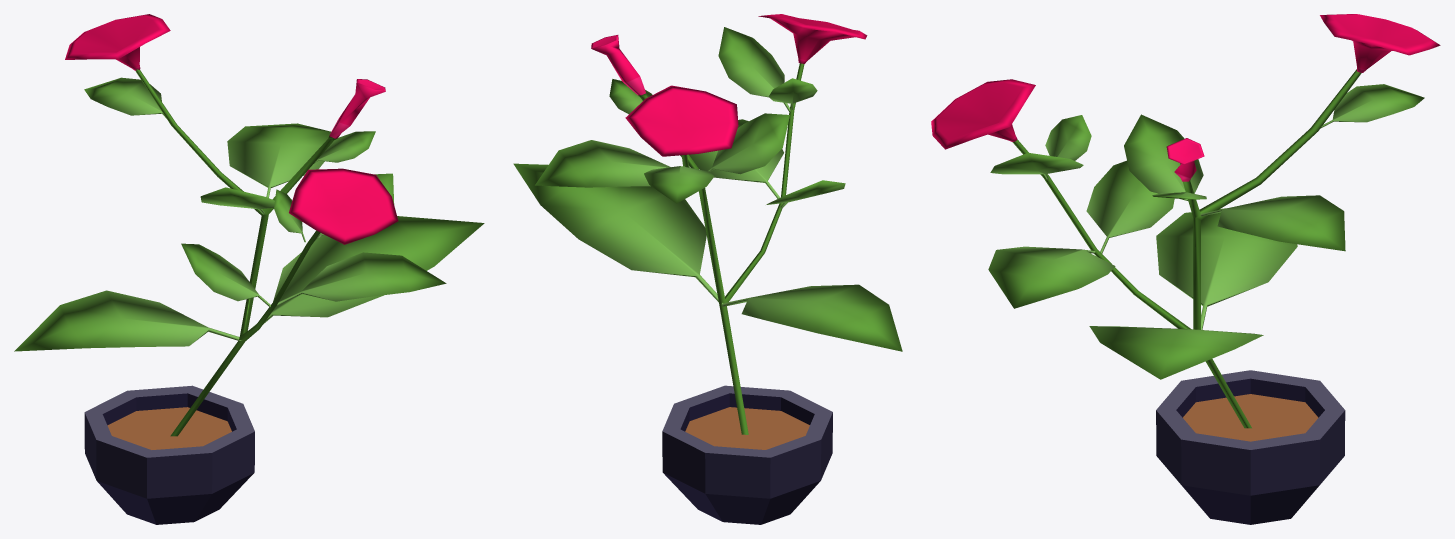
The model's file is pfp10.fbx.
3 views of the same model, side by side, from view 1: azimuth 30°, elevation 25°; view 2: azimuth 150°, elevation 25°; view 3: azimuth 270°, elevation 25° (orthographic). The views are drawn at different scales.
Parts seen in each view (by area): view 1: pfp10; view 2: pfp10; view 3: pfp10.
Boxes of the visible parts, left/top/right/bottom form: pfp10: left=14, top=14, right=484, bottom=524; pfp10: left=513, top=14, right=902, bottom=524; pfp10: left=931, top=14, right=1440, bottom=524.
Size of the model in its own units: 80.09 by 77.64 by 73.81.
